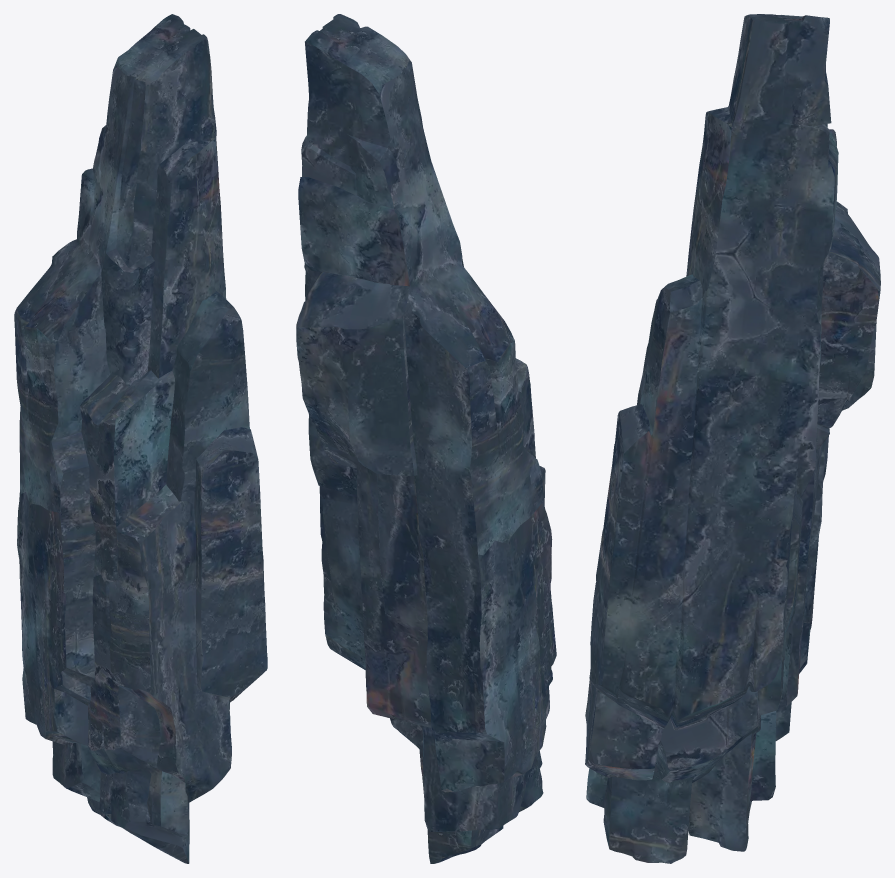
3 renders of one model, left to right at view 1: azimuth 30°, elevation 25°; view 2: azimuth 150°, elevation 25°; view 3: azimuth 270°, elevation 25°, orthographic. The views are drawn at different scales.
Parts seen in each view (by area): view 1: SM_Cave_Floor_01_LOD0; view 2: SM_Cave_Floor_01_LOD0; view 3: SM_Cave_Floor_01_LOD0.
Part boxes in pixels (left/top/right/bottom): SM_Cave_Floor_01_LOD0: left=14, top=14, right=267, bottom=863; SM_Cave_Floor_01_LOD0: left=296, top=14, right=556, bottom=863; SM_Cave_Floor_01_LOD0: left=585, top=14, right=880, bottom=863.
Size of the model in its own units: 2.78 by 11.7 by 3.54.
